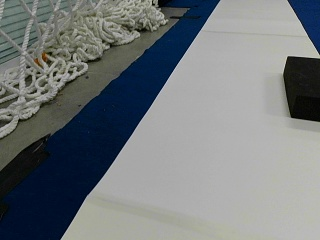block: (283, 55, 319, 122)
